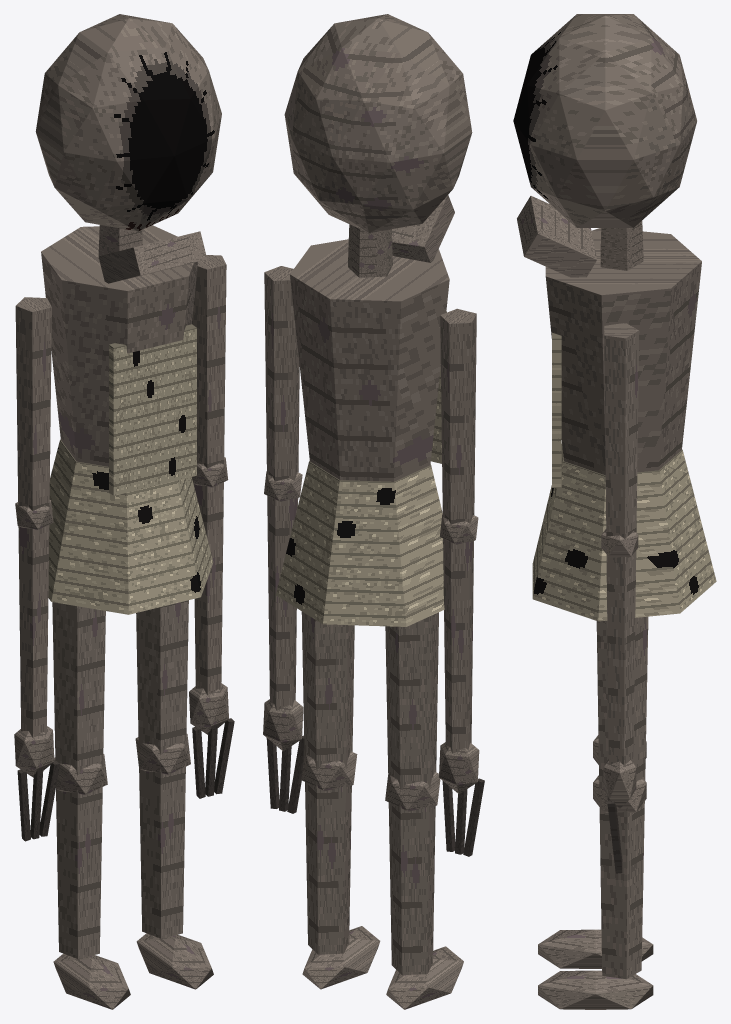
The model's file is hollow-crawler.glb.
3 renders of one model, left to right at view 1: azimuth 30°, elevation 25°; view 2: azimuth 150°, elevation 25°; view 3: azimuth 270°, elevation 25°, orthographic.
Visible parts, largest first — view 1: torso, head, leg-left, leg-right, arm-left, arm-right; view 2: torso, head, leg-left, leg-right, arm-left, arm-right; view 3: torso, head, arm-right, leg-right, leg-left.
Part boxes in pixels (x1,y1,x2,y2): torso: (41,225,213,614); head: (35,14,221,283); leg-left: (52,602,130,1009); leg-right: (135,600,213,989); arm-left: (14,297,59,841); arm-right: (189,255,234,798); torso: (275,224,449,626); head: (284,14,472,262); leg-left: (385,612,463,1009); leg-right: (301,611,380,989); arm-left: (439,308,484,856); arm-right: (263,266,304,813); torso: (532,220,716,621); head: (513,14,696,277); arm-right: (601,323,639,873); leg-right: (538,616,653,1009); leg-left: (538,735,653,968).
Size of the model in its own units: 0.5143 by 2.22 by 0.42.
1 material, 1 textured.
